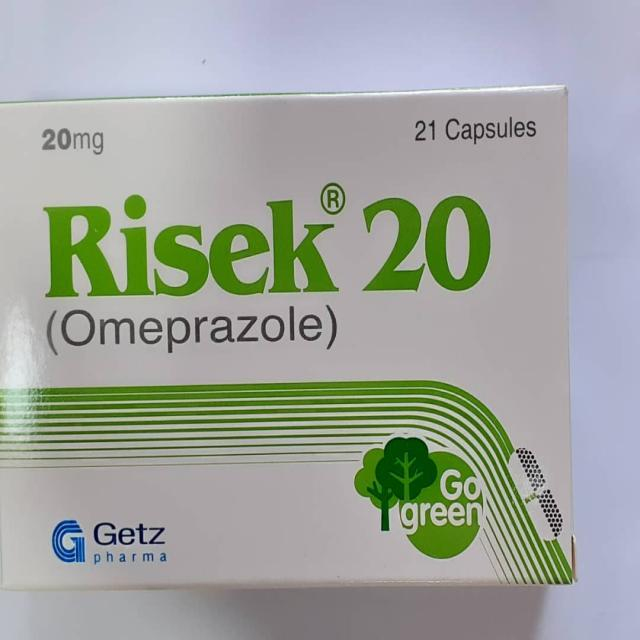drug-name: (40, 188, 496, 296)
